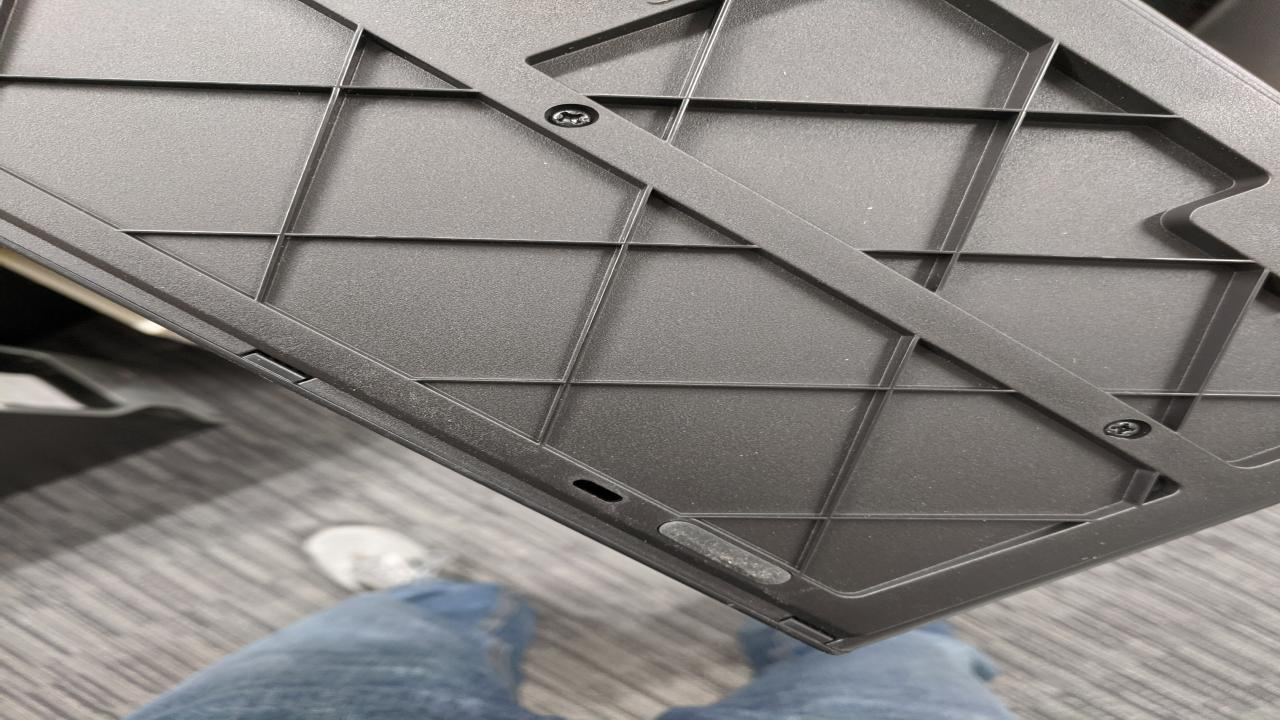CRS: (1101, 418, 1151, 440), (549, 107, 595, 127)
